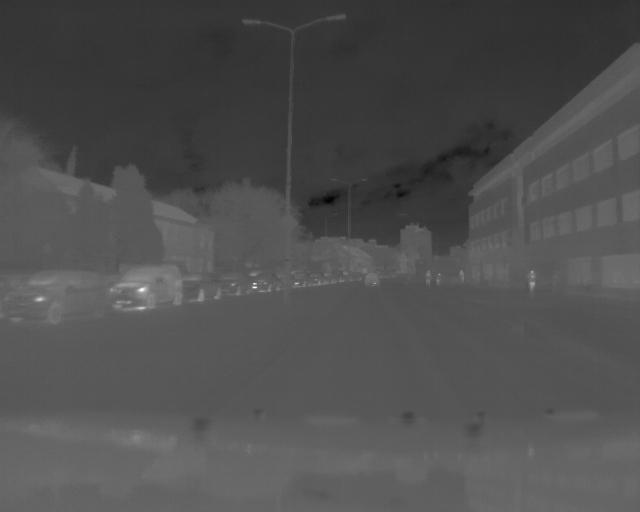car: (1, 269, 109, 324), (111, 260, 185, 312), (185, 265, 222, 303), (225, 267, 258, 298), (360, 270, 382, 291)
person: (526, 268, 538, 302), (433, 269, 442, 291), (423, 267, 432, 288)
